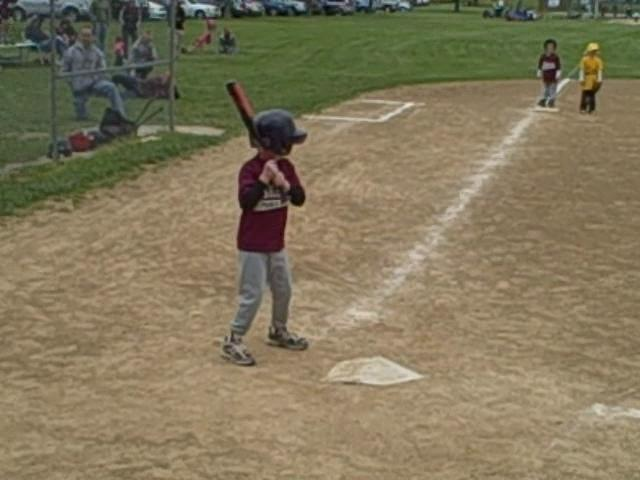car: (4, 0, 98, 23), (206, 0, 262, 18), (179, 0, 223, 20), (261, 0, 307, 17), (376, 0, 414, 17), (325, 0, 354, 15), (310, 1, 338, 16), (350, 0, 378, 14), (148, 2, 168, 19)
